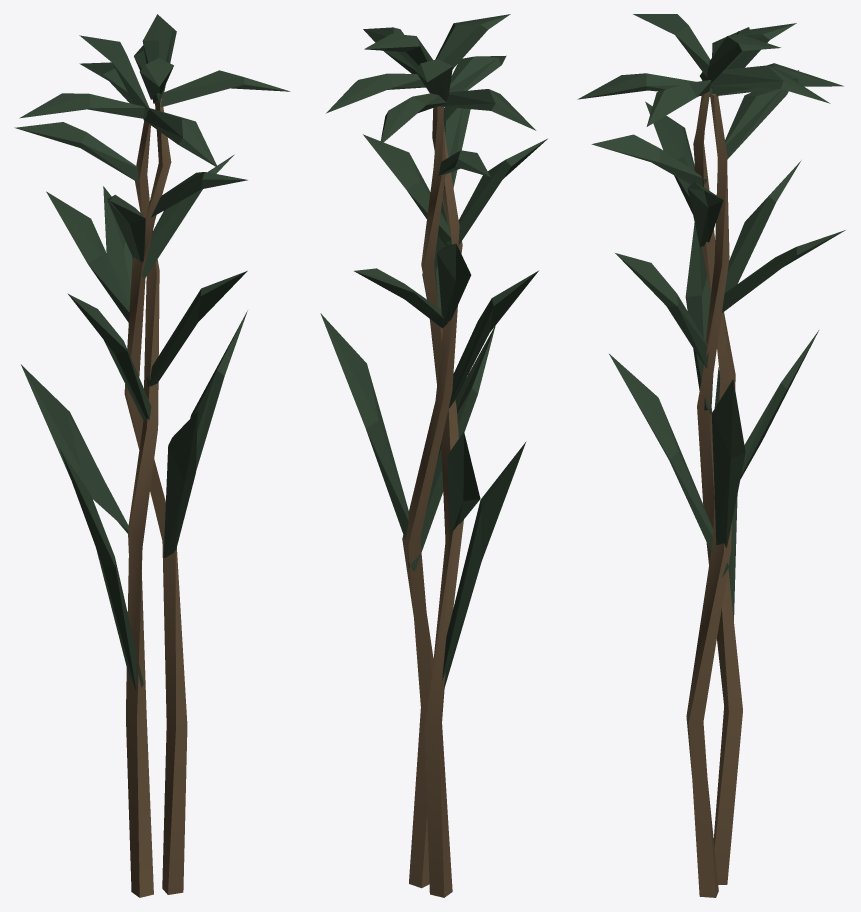
The model's file is SM_Env_Plants_03.glb.
3 renders of one model, left to right at view 1: azimuth 30°, elevation 25°; view 2: azimuth 150°, elevation 25°; view 3: azimuth 270°, elevation 25°, orthographic.
Parts seen in each view (by area): view 1: SM_Env_Plants_03; view 2: SM_Env_Plants_03; view 3: SM_Env_Plants_03.
Part boxes in pixels (x1,y1,x2,y2): SM_Env_Plants_03: (14,14,290,897); SM_Env_Plants_03: (320,14,547,897); SM_Env_Plants_03: (577,14,845,897).
Size of the model in its own units: 0.00829 by 0.0302 by 0.00861.
